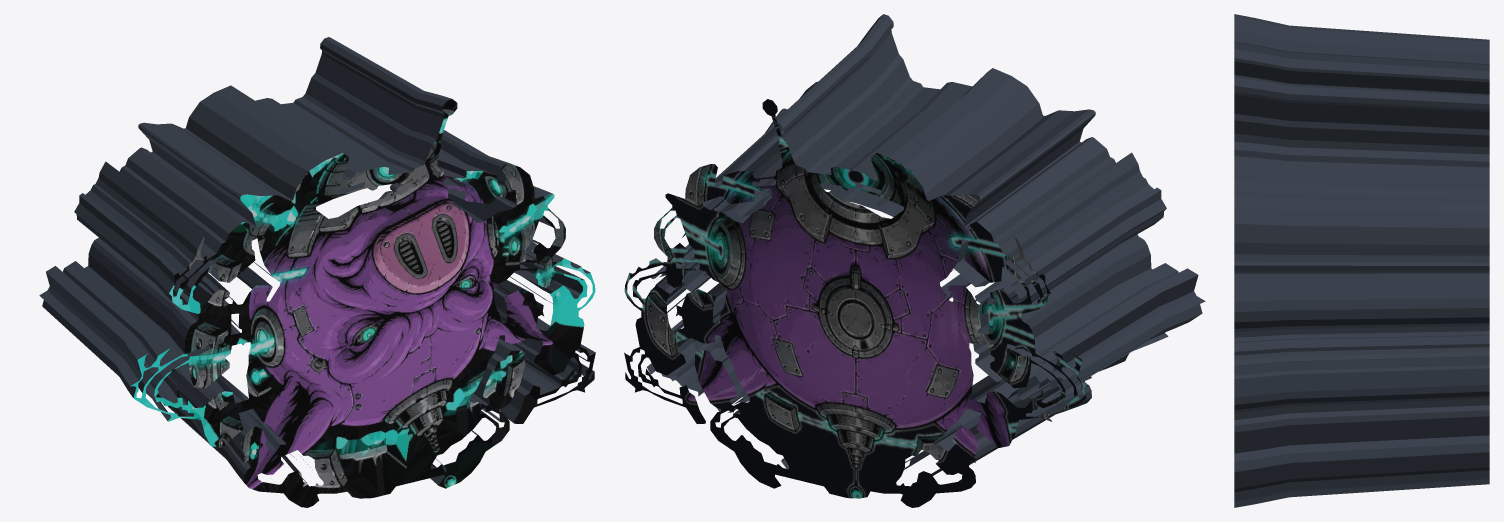
Rendered from phase-3-orbiter.glb.
The picture shows the model from 3 angles, left to right: view 1: azimuth 30°, elevation 25°; view 2: azimuth 150°, elevation 25°; view 3: azimuth 270°, elevation 25°; orthographic projection. The views are drawn at different scales.
Visible parts, largest first — view 1: RING-BOSS-PHASE-3; view 2: RING-BOSS-PHASE-3; view 3: RING-BOSS-PHASE-3.
Boxes of the visible parts, x1,y1,x2,y2 form: RING-BOSS-PHASE-3: (39, 37, 595, 507); RING-BOSS-PHASE-3: (624, 14, 1205, 507); RING-BOSS-PHASE-3: (1234, 14, 1489, 507).
Bounding box in the file's own units: 2.51 × 2 × 1.08.
Materials: 3 (2 with a texture image).
